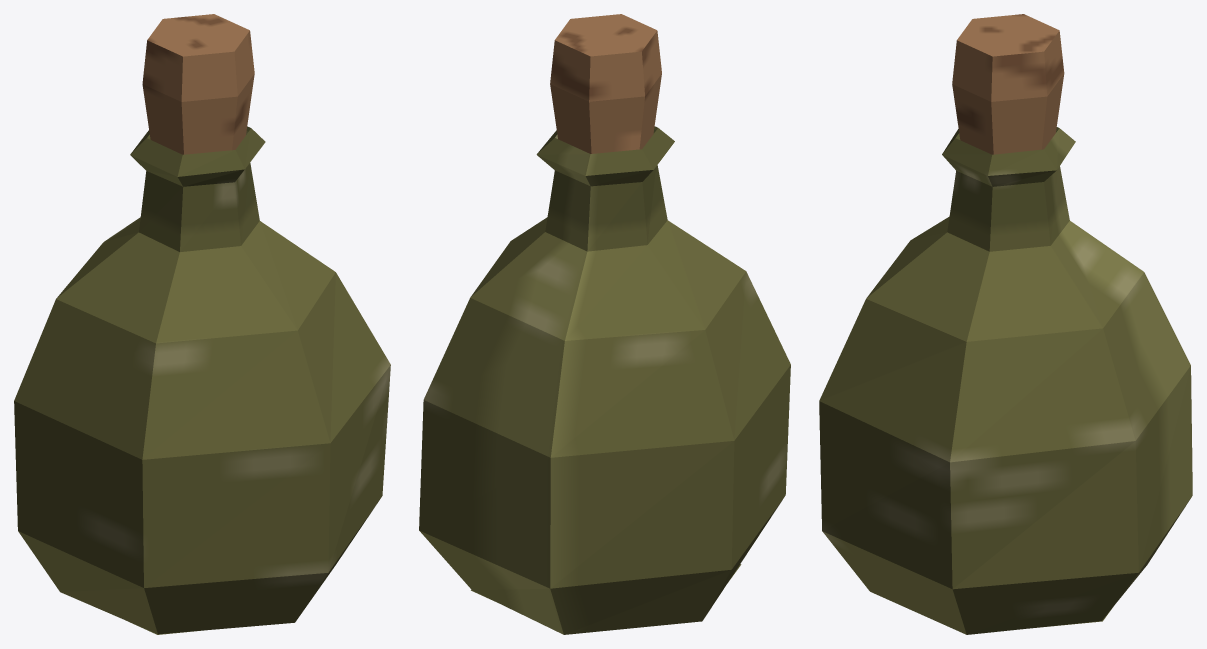
The model's file is SM_PR06_BottleSquat.fbx.
3 renders of one model, left to right at view 1: azimuth 30°, elevation 25°; view 2: azimuth 150°, elevation 25°; view 3: azimuth 270°, elevation 25°, orthographic.
Parts seen in each view (by area): view 1: PR06_Bottle; view 2: PR06_Bottle; view 3: PR06_Bottle.
Boxes of the visible parts, left/top/right/bottom form: PR06_Bottle: left=14, top=14, right=390, bottom=634; PR06_Bottle: left=419, top=14, right=790, bottom=634; PR06_Bottle: left=819, top=14, right=1192, bottom=634.
Bounding box in the file's own units: 0.1539 × 0.25 × 0.1559.
